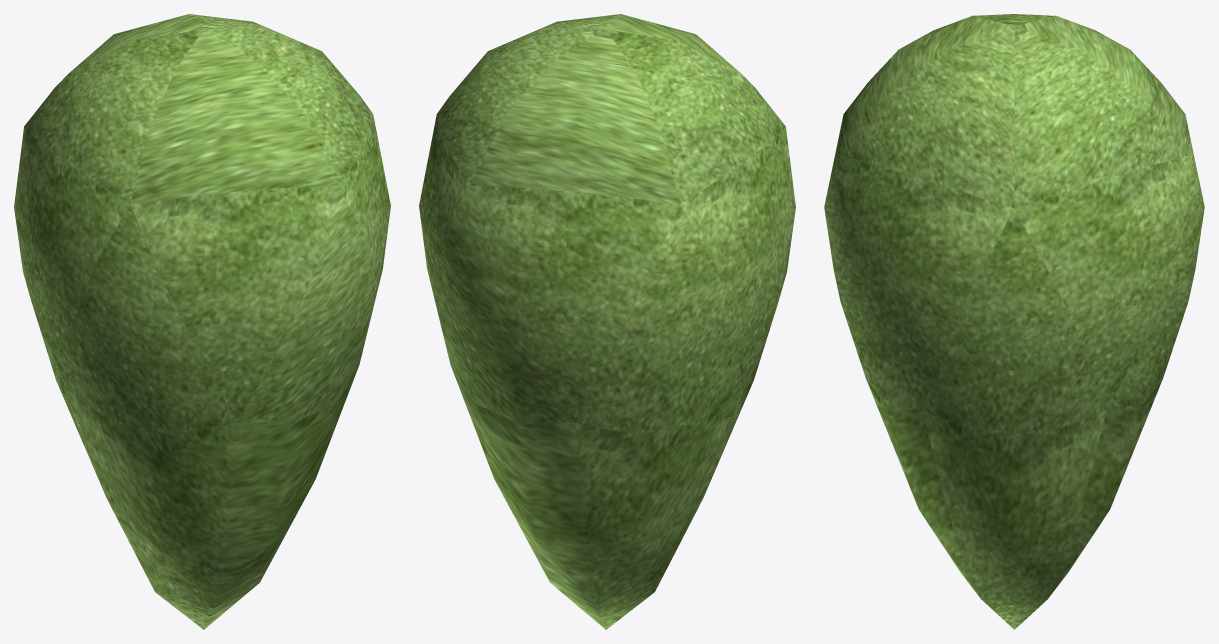
The picture shows the model from 3 angles, left to right: view 1: azimuth 30°, elevation 25°; view 2: azimuth 150°, elevation 25°; view 3: azimuth 270°, elevation 25°; orthographic projection.
Visible parts, largest first — view 1: ColobotMesh_1_ColobotMesh_; view 2: ColobotMesh_1_ColobotMesh_; view 3: ColobotMesh_1_ColobotMesh_.
Boxes of the visible parts, box(x1,y1,x2,y2) form: ColobotMesh_1_ColobotMesh_: box(14, 14, 390, 629); ColobotMesh_1_ColobotMesh_: box(419, 14, 795, 629); ColobotMesh_1_ColobotMesh_: box(824, 14, 1204, 629).
Bounding box in the file's own units: 3.11 × 5.49 × 3.14.
